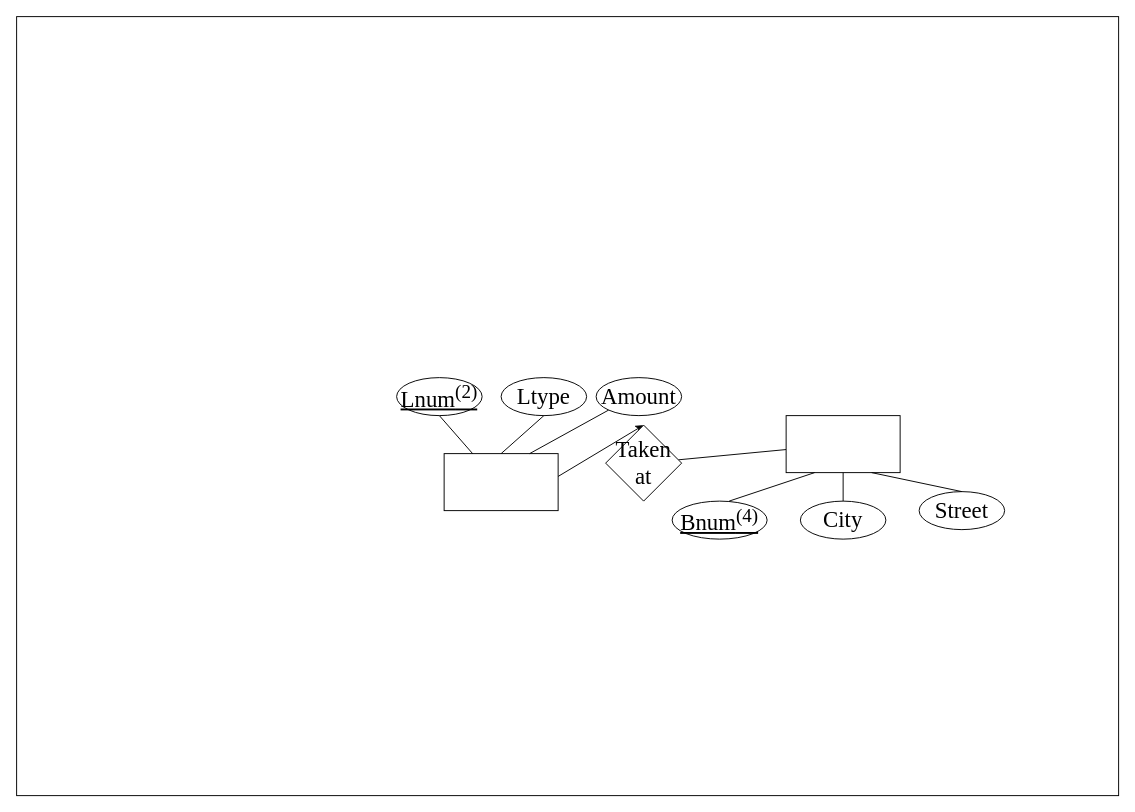
This 1135x812 diagram has some shape labels left out. The shapes that lost their labels are listed below. From the top down, each one's box as (x1, y1, x2, y2) in pixels, then its label:
(785, 415, 900, 473): Branch
(443, 453, 558, 511): Loan
